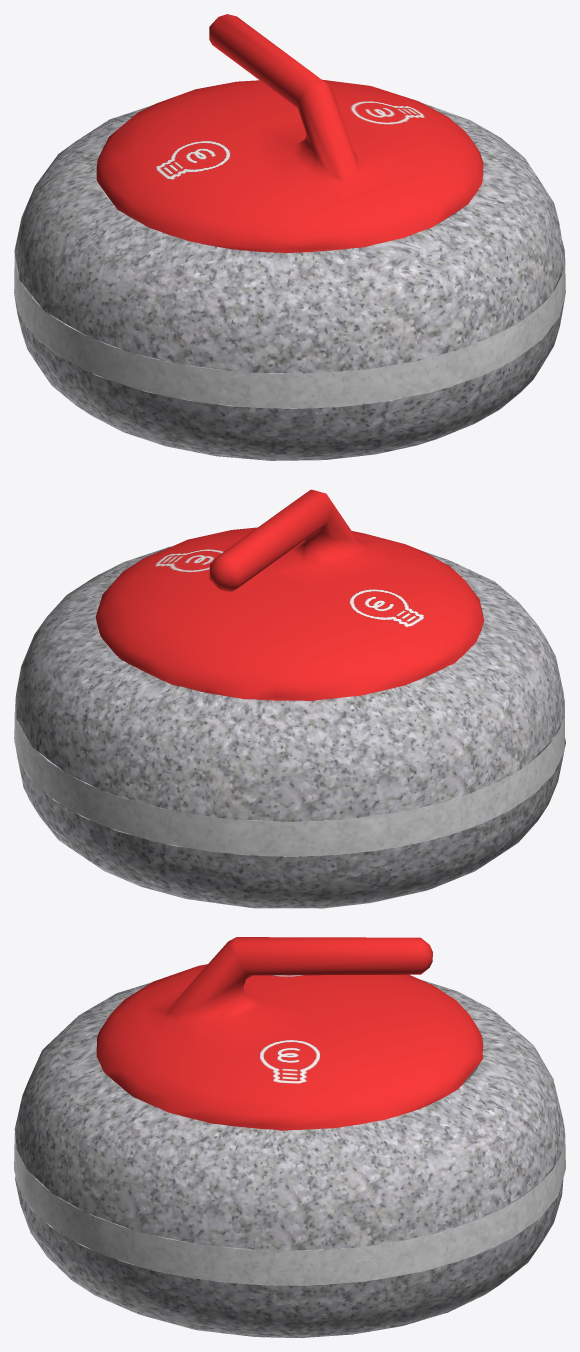
Rendered from stone-red.glb.
The picture shows the model from 3 angles, top to bottom: view 1: azimuth 30°, elevation 25°; view 2: azimuth 150°, elevation 25°; view 3: azimuth 270°, elevation 25°; orthographic projection.
Parts seen in each view (by area): view 1: Body4, Body7, Body5, Body6; view 2: Body4, Body7, Body5, Body6; view 3: Body4, Body7, Body5, Body6.
Boxes of the visible parts, box(x1,y1,x2,y2) form: Body4: box(14, 103, 565, 373); Body7: box(96, 14, 483, 253); Body5: box(14, 210, 565, 460); Body6: box(14, 175, 565, 408); Body4: box(16, 546, 563, 821); Body7: box(95, 489, 483, 700); Body5: box(14, 652, 565, 908); Body6: box(14, 624, 564, 856); Body4: box(14, 979, 565, 1251); Body7: box(96, 937, 483, 1130); Body5: box(15, 1080, 563, 1337); Body6: box(14, 1064, 565, 1285).
Size of the model in its own units: 40.44 by 25.65 by 40.48.
Materials: 3 (3 with a texture image).
